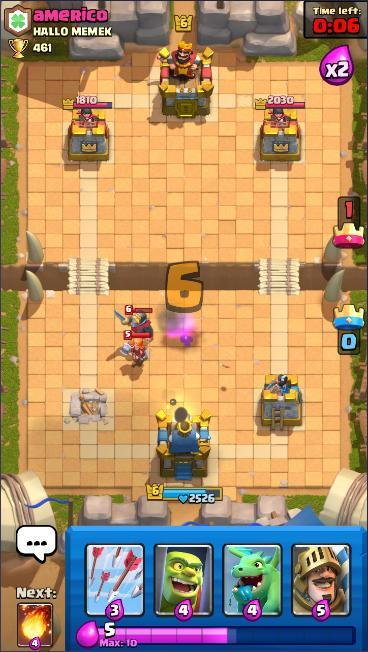enemy_knight: (113, 303, 156, 345)
enemy_valkyrie: (118, 328, 153, 369)
